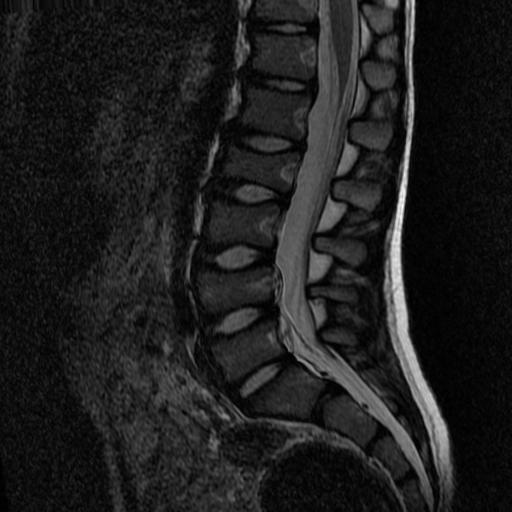D1: (223, 119, 307, 156)
